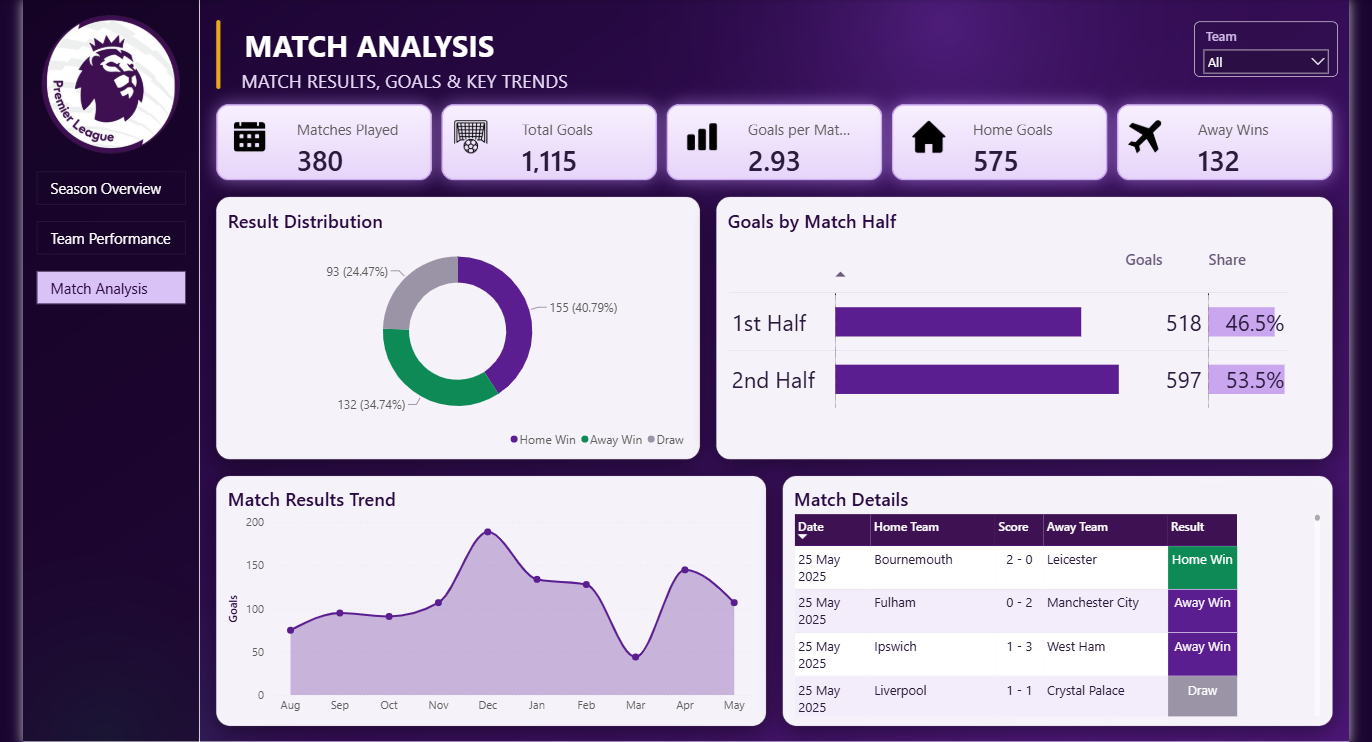

The page's visual inventory and layout, read from the dashboard file:
{"tool":"powerbi","page":{"name":"Match Analysis","canvas":[1920,1080],"ordinal":2},"visuals":[{"type":"image","box":[28,24,200,200],"z":0},{"type":"pageNavigator","box":[20,250,216,192],"z":1000},{"type":"textbox","box":[304,32,768,80],"z":2000},{"type":"textbox","box":[304,96,960,48],"z":3000},{"type":"cardVisual","fields":{"Data":["_Measure.Matches Played"]},"box":[368,164,212,104],"z":4000},{"type":"cardVisual","fields":{"Data":["_Measure.Total Goals"]},"box":[694,164,212,104],"z":5000},{"type":"cardVisual","fields":{"Data":["_Measure.Goals per Match"]},"box":[1020,164,212,104],"z":6000},{"type":"cardVisual","fields":{"Data":["_Measure.Home Goals"]},"box":[1346,164,212,104],"z":7000},{"type":"cardVisual","fields":{"Data":["_Measure.Away Wins"]},"box":[1672,164,212,104],"z":8000},{"type":"slicer","title":"Team","fields":{"Values":["DimTeam.team_name"]},"box":[1696,32,208,80],"z":9000},{"type":"donutChart","title":"Result Distribution","fields":{"Category":["Matches.match_result"],"Y":["_Measure.Matches Played"]},"box":[292,303,676,356],"z":10000},{"type":"tableEx","title":"Goals by Match Half","fields":{"Values":["Halves.Half","Halves.Half Goals","Halves.Half_Goals","Halves.Half Goals %"]},"box":[1016,302,864,356],"z":11000},{"type":"areaChart","title":"Match Results Trend","fields":{"Category":["Matches.match_month"],"Y":["_Measure.Total Goals"]},"box":[292,706,772,338],"z":12000},{"type":"tableEx","title":"Match Details","fields":{"Values":["Matches.match_date","Matches.home_team","Matches.score","Matches.away_team","Matches.match_result"]},"box":[1112,706,772,338],"z":12001},{"type":"image","box":[304,176,48,48],"z":12002},{"type":"image","box":[1600,176,48,48],"z":12003},{"type":"image","box":[1280,176,64,48],"z":12004},{"type":"image","box":[960,176,48,48],"z":12005},{"type":"image","box":[624,176,48,48],"z":12006}]}

Visuals, with their boxes on the page's 1920x1080 design canvas (x1, y1, x2, y2). These are canvas units, not pixel positions in the 1372x742 screenshot, which may show the page scaled, cropped or inside an application window:
image: (left=28, top=24, right=228, bottom=224)
pageNavigator: (left=20, top=250, right=236, bottom=442)
textbox: (left=304, top=32, right=1072, bottom=112)
textbox: (left=304, top=96, right=1264, bottom=144)
cardVisual - _Measure.Matches Played: (left=368, top=164, right=580, bottom=268)
cardVisual - _Measure.Total Goals: (left=694, top=164, right=906, bottom=268)
cardVisual - _Measure.Goals per Match: (left=1020, top=164, right=1232, bottom=268)
cardVisual - _Measure.Home Goals: (left=1346, top=164, right=1558, bottom=268)
cardVisual - _Measure.Away Wins: (left=1672, top=164, right=1884, bottom=268)
"Team" slicer: (left=1696, top=32, right=1904, bottom=112)
"Result Distribution" donutChart: (left=292, top=303, right=968, bottom=659)
"Goals by Match Half" tableEx: (left=1016, top=302, right=1880, bottom=658)
"Match Results Trend" areaChart: (left=292, top=706, right=1064, bottom=1044)
"Match Details" tableEx: (left=1112, top=706, right=1884, bottom=1044)
image: (left=304, top=176, right=352, bottom=224)
image: (left=1600, top=176, right=1648, bottom=224)
image: (left=1280, top=176, right=1344, bottom=224)
image: (left=960, top=176, right=1008, bottom=224)
image: (left=624, top=176, right=672, bottom=224)
